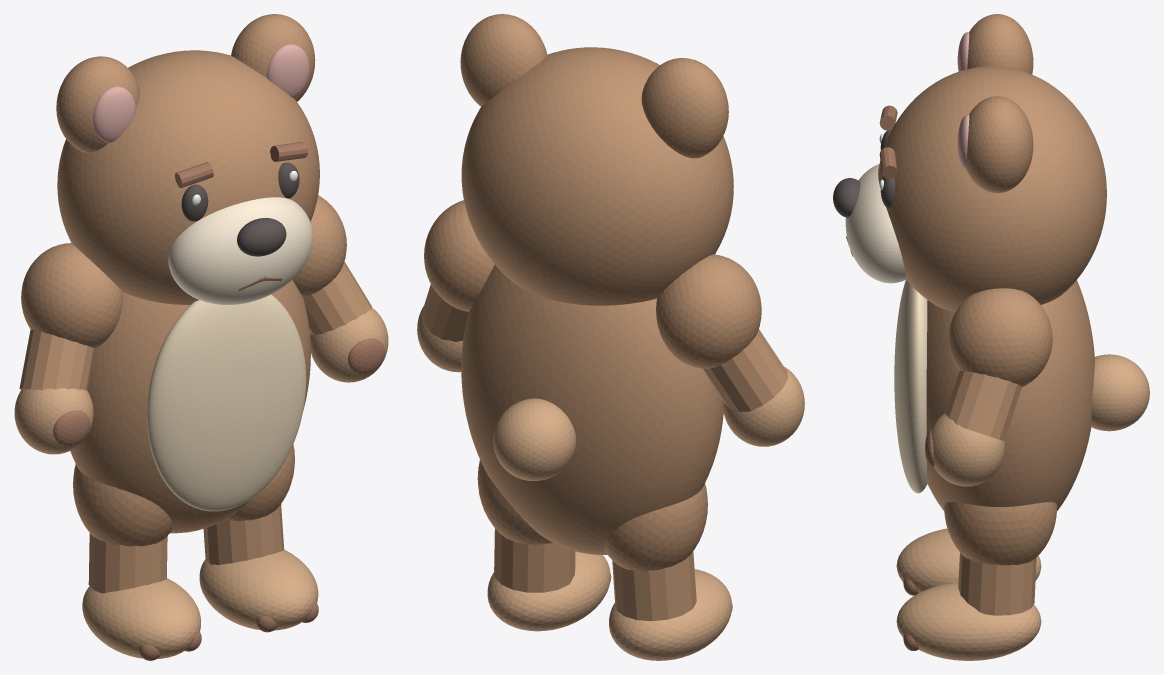
The model's file is bear.glb.
3 views of the same model, side by side, from view 1: azimuth 30°, elevation 25°; view 2: azimuth 150°, elevation 25°; view 3: azimuth 270°, elevation 25° (orthographic). The views are drawn at different scales.
Parts seen in each view (by area): view 1: Head, Belly_Patch, Body_Main, Muzzle, Shoulder_L, Foot_L, Foot_R, Hip_L, Ear_L, Leg_L, UpperArm_L, Paw_L (+15 smaller); view 2: Head, Body_Main, Shoulder_L, Ear_L, Foot_L, Tail, Foot_R, Hip_L, Ear_R, Shoulder_R, Leg_L, UpperArm_L (+5 smaller); view 3: Head, Body_Main, Shoulder_R, Foot_R, Belly_Patch, Hip_R, Ear_R, Muzzle, Leg_R, Tail, UpperArm_R, Paw_R (+5 smaller).
Boxes of the visible parts, box(x1,y1,x2,y2) form: Head: box(57, 50, 319, 304); Belly_Patch: box(147, 294, 306, 511); Body_Main: box(70, 279, 310, 533); Muzzle: box(168, 197, 312, 304); Shoulder_L: box(21, 243, 122, 348); Foot_L: box(82, 578, 200, 658); Foot_R: box(199, 549, 318, 630); Hip_L: box(73, 464, 172, 546); Ear_L: box(56, 56, 140, 152); Leg_L: box(88, 533, 167, 593); UpperArm_L: box(19, 329, 94, 390); Paw_L: box(14, 388, 93, 454); Head: box(461, 47, 733, 305); Body_Main: box(461, 264, 723, 554); Shoulder_L: box(656, 254, 761, 368); Ear_L: box(641, 58, 728, 158); Foot_L: box(609, 569, 731, 660); Tail: box(493, 398, 576, 481); Foot_R: box(487, 551, 610, 631); Hip_L: box(604, 484, 707, 571); Ear_R: box(460, 14, 547, 106); Shoulder_R: box(424, 200, 494, 311); Leg_L: box(612, 551, 696, 621); UpperArm_L: box(703, 329, 787, 412); Head: box(878, 66, 1106, 311); Body_Main: box(926, 280, 1094, 510); Shoulder_R: box(948, 288, 1052, 387); Foot_R: box(896, 582, 1041, 660); Belly_Patch: box(894, 280, 927, 493); Hip_R: box(944, 502, 1057, 565); Ear_R: box(966, 96, 1033, 192); Muzzle: box(845, 164, 906, 283); Leg_R: box(958, 552, 1036, 615); Tail: box(1091, 354, 1149, 431); UpperArm_R: box(945, 370, 1021, 440); Paw_R: box(931, 413, 1005, 486).
Bounding box in the file's own units: 1.8 × 2.77 × 1.4.
